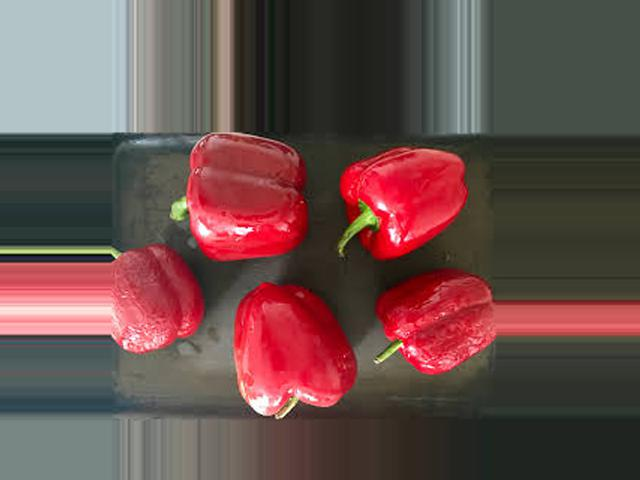bell_pepper: (111, 238, 206, 371)
